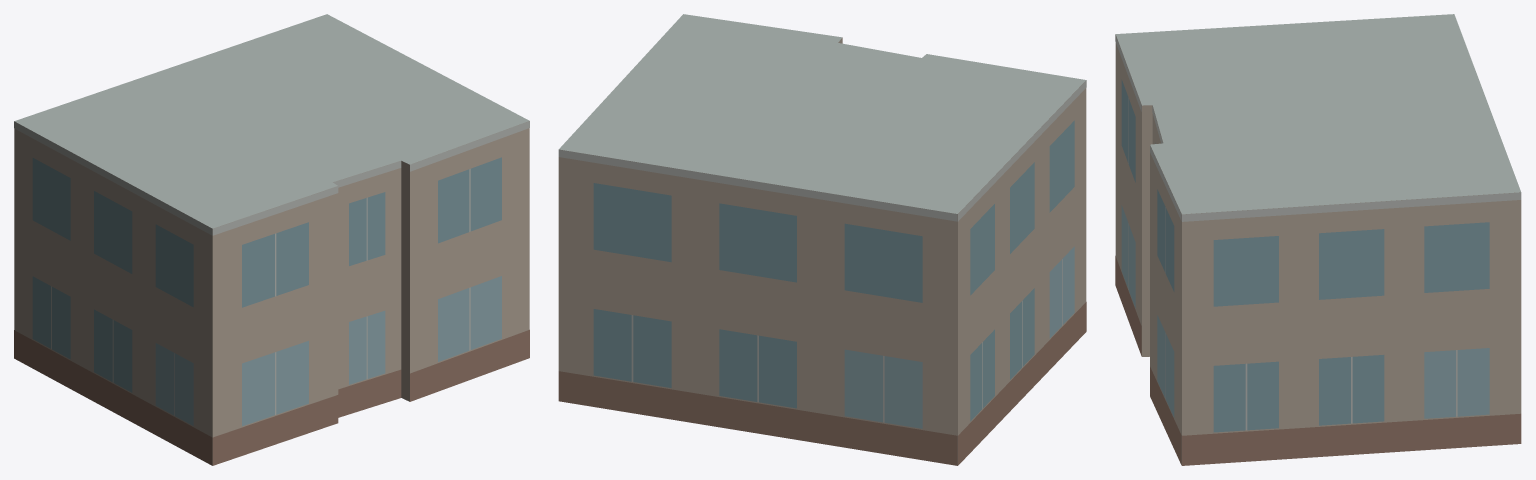
Rendered from survey-upis-33028039.glb.
The picture shows the model from 3 angles, left to right: view 1: azimuth 30°, elevation 25°; view 2: azimuth 150°, elevation 25°; view 3: azimuth 270°, elevation 25°; orthographic projection. The views are drawn at different scales.
Visible parts, largest first — view 1: survey-upis-33028039.tmp; view 2: survey-upis-33028039.tmp; view 3: survey-upis-33028039.tmp.
Boxes of the visible parts, x1=… form: survey-upis-33028039.tmp: x1=14, y1=14, x2=529, y2=465; survey-upis-33028039.tmp: x1=558, y1=14, x2=1086, y2=465; survey-upis-33028039.tmp: x1=1115, y1=14, x2=1521, y2=465.
Bounding box in the file's own units: 13.85 × 8.1 × 11.85.
